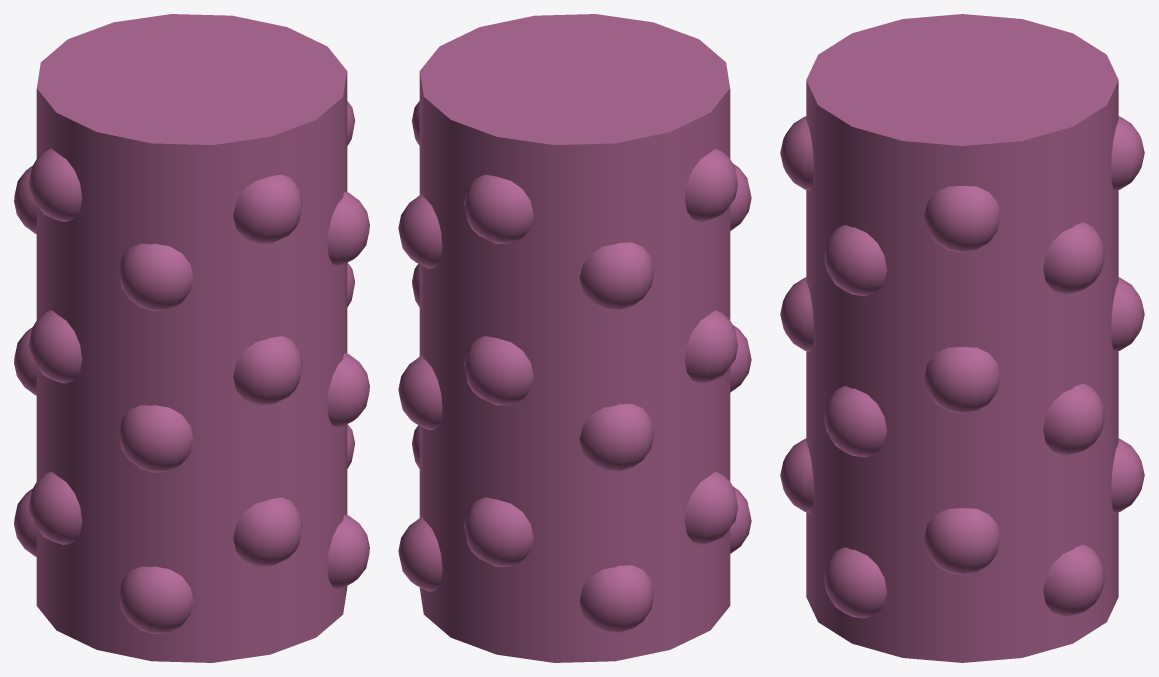
3 views of the same model, side by side, from view 1: azimuth 30°, elevation 25°; view 2: azimuth 150°, elevation 25°; view 3: azimuth 270°, elevation 25° (orthographic).
Parts seen in each view (by area): view 1: capsule; view 2: capsule; view 3: capsule.
Boxes of the visible parts, box(x1,y1,x2,y2) form: capsule: box(14, 14, 369, 662); capsule: box(398, 14, 751, 662); capsule: box(780, 14, 1144, 662).
Size of the model in its own units: 181 by 282 by 181.
